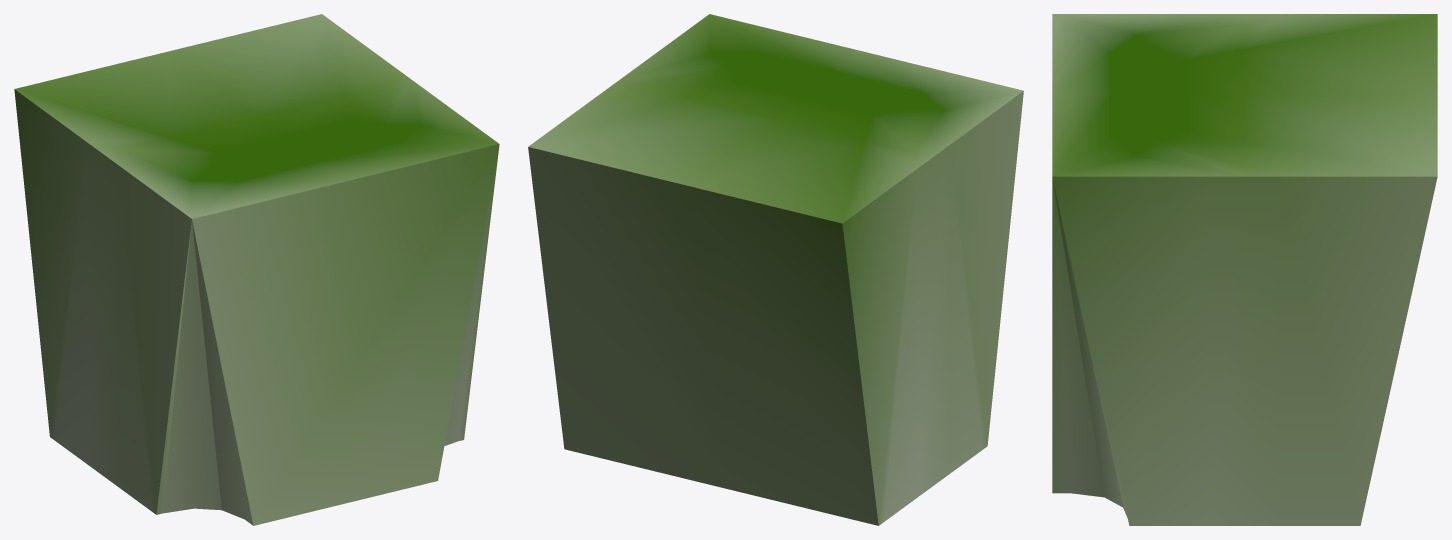
The model's file is T10DirB.fbx.
3 renders of one model, left to right at view 1: azimuth 30°, elevation 25°; view 2: azimuth 150°, elevation 25°; view 3: azimuth 270°, elevation 25°, orthographic. The views are drawn at different scales.
Visible parts, largest first — view 1: 3, 1, 4, 2; view 2: 4, 2, 3, 1; view 3: 1, 2, 3, 4.
Boxes of the visible parts, x1,y1,x2,y2 form: 3: (103,116,345,525); 1: (257,79,499,503); 4: (14,51,256,475); 2: (168,14,410,116); 4: (685,119,933,525); 2: (528,80,775,487); 3: (776,52,1023,485); 1: (619,14,866,118); 1: (1052,95,1244,525); 2: (1245,95,1437,525); 3: (1052,14,1244,95); 4: (1245,14,1437,95).
Size of the model in its own units: 200 by 200 by 200.
